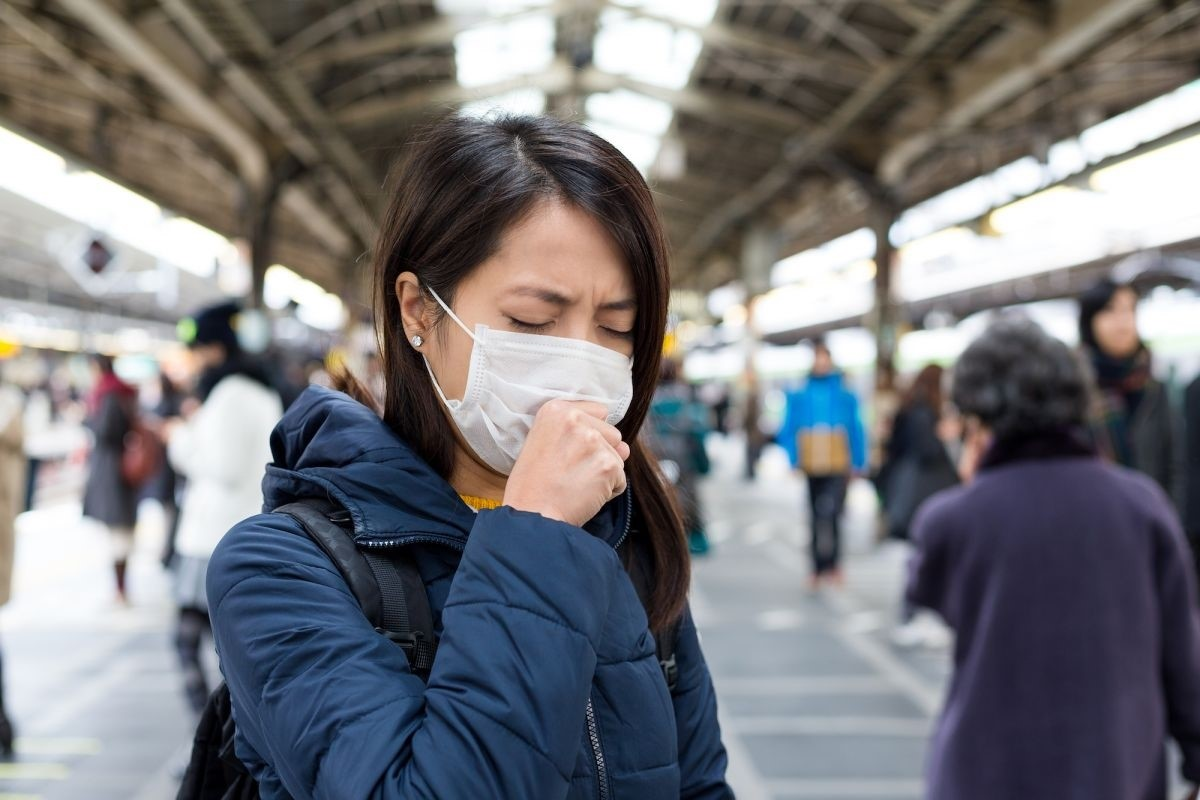face_with_mask: (391, 108, 667, 504)
